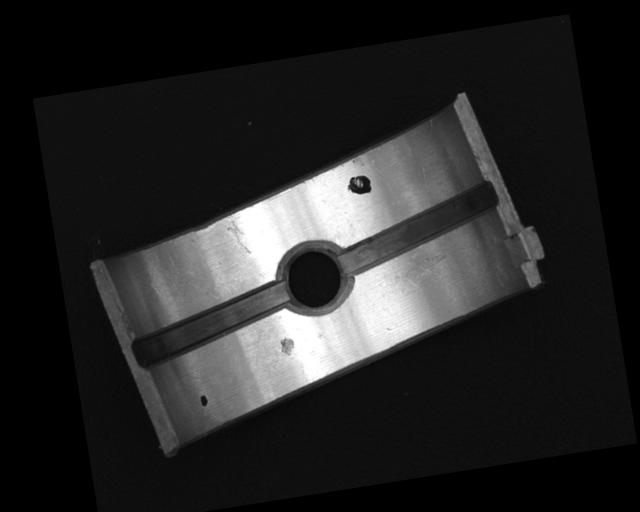blot: (345, 173, 374, 197), (198, 394, 210, 407)
bruise: (279, 336, 296, 358)
gap: (331, 182, 505, 277), (125, 285, 296, 369)
hole: (275, 238, 356, 320)
nick: (225, 213, 252, 258)
scratch: (396, 236, 475, 291)
